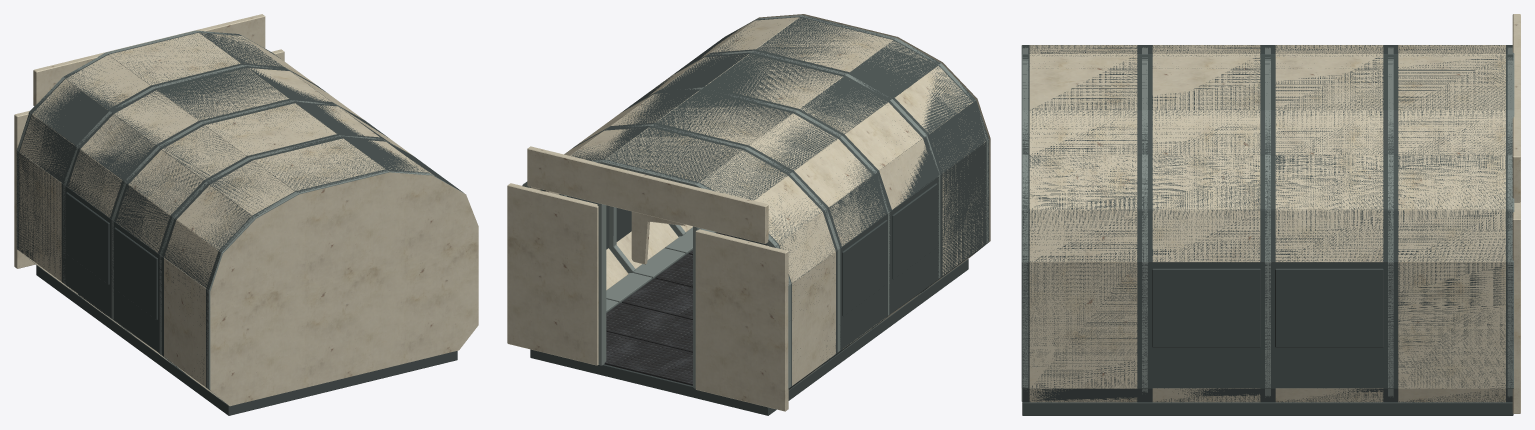
The model's file is radio_room_v2.glb.
3 views of the same model, side by side, from view 1: azimuth 30°, elevation 25°; view 2: azimuth 150°, elevation 25°; view 3: azimuth 270°, elevation 25° (orthographic). The views are drawn at different scales.
Parts seen in each view (by area): view 1: Runtime ivory_aged, Runtime structural_graphite, Runtime brushed_edges; view 2: Runtime ivory_aged, Runtime structural_graphite, Runtime brushed_edges, Runtime deck_plate; view 3: Runtime ivory_aged, Runtime structural_graphite, Runtime brushed_edges.
Boxes of the visible parts, bbox=[...] form: Runtime ivory_aged: bbox=[14, 14, 478, 406]; Runtime structural_graphite: bbox=[16, 31, 463, 415]; Runtime brushed_edges: bbox=[16, 30, 464, 404]; Runtime ivory_aged: bbox=[507, 14, 990, 411]; Runtime structural_graphite: bbox=[530, 15, 988, 415]; Runtime brushed_edges: bbox=[522, 15, 989, 388]; Runtime deck_plate: bbox=[604, 232, 768, 385]; Runtime ivory_aged: bbox=[1029, 14, 1520, 413]; Runtime structural_graphite: bbox=[1022, 45, 1513, 415]; Runtime brushed_edges: bbox=[1021, 45, 1514, 401].
Bounding box in the file's own units: 3.9 × 2.83 × 4.9.
Materials: 12 (2 with a texture image).
